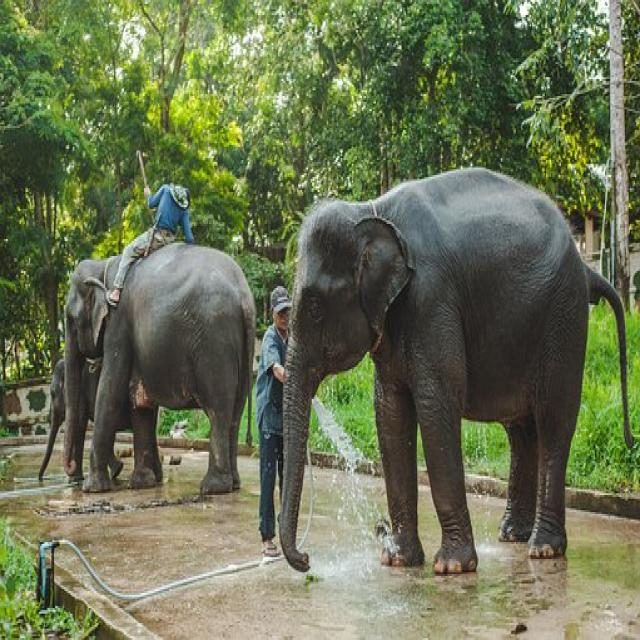Elephant: (274, 169, 636, 584), (58, 211, 251, 532)
